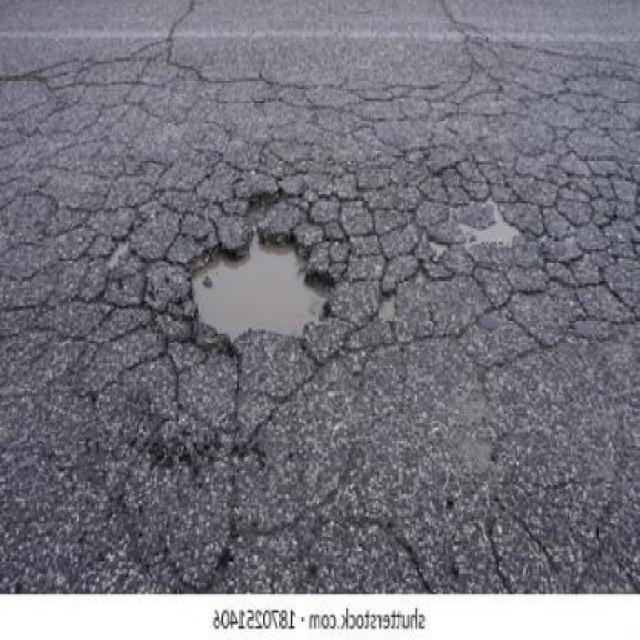pothole: (187, 189, 335, 348), (462, 199, 520, 252)
